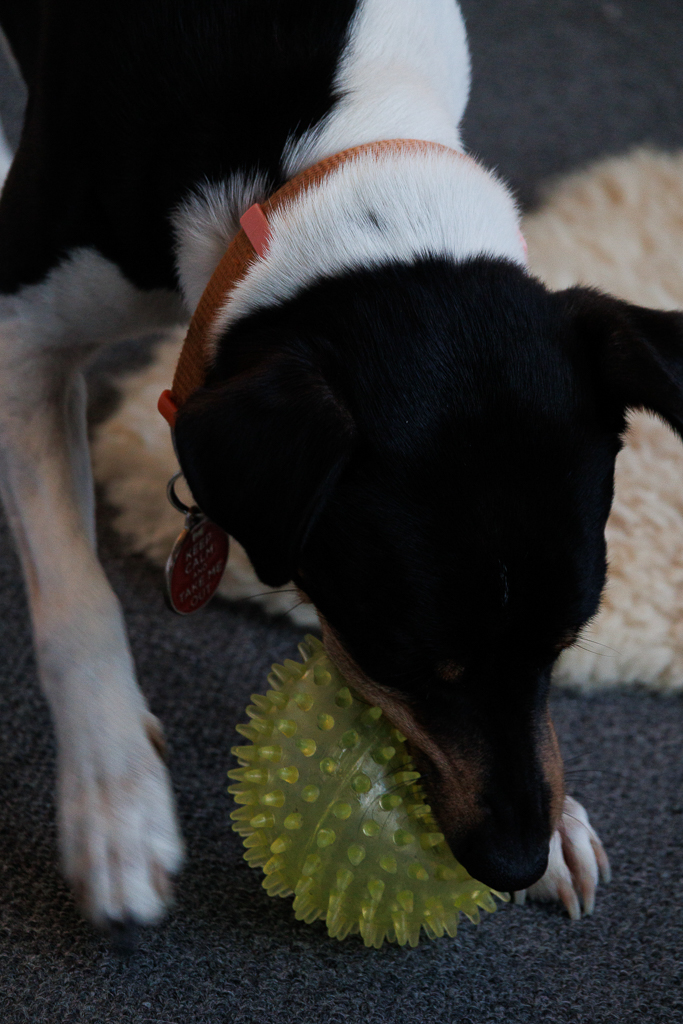Dog: (0, 0, 683, 948)
